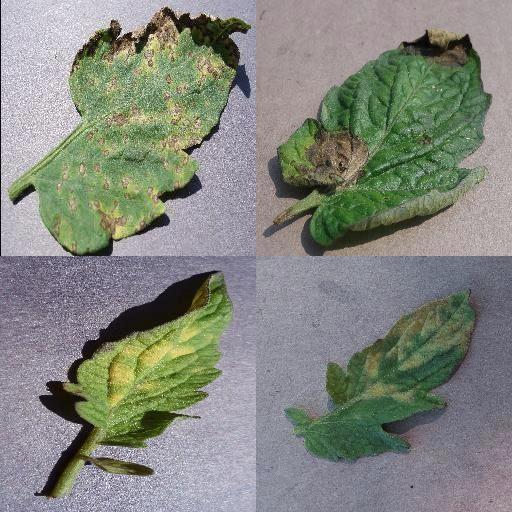Late Blight: (277, 29, 493, 247)
Leaf Mold: (287, 285, 475, 463), (63, 270, 234, 450)
Septoria: (35, 6, 251, 255)
